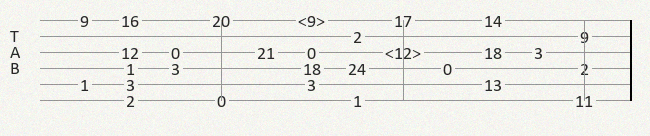0: (171, 45, 184, 60), (217, 93, 230, 108), (307, 45, 320, 60), (443, 61, 456, 76)
1: (80, 77, 93, 92), (126, 61, 139, 76), (353, 93, 366, 108)
11: (575, 93, 597, 108)
12: (121, 45, 143, 60)
13: (484, 77, 506, 92)
14: (484, 13, 506, 28)
16: (121, 13, 143, 28)
17: (394, 13, 416, 28)
18: (303, 61, 325, 76), (484, 45, 506, 60)
2: (126, 93, 139, 108), (353, 29, 366, 44), (580, 61, 593, 76)
20: (212, 13, 234, 28)
21: (257, 45, 279, 60)
24: (348, 61, 370, 76)
3: (126, 77, 139, 92), (171, 61, 184, 76), (307, 77, 320, 92), (534, 45, 547, 60)
9: (80, 13, 93, 28), (580, 29, 593, 44)
harmonic: (385, 45, 425, 60), (298, 13, 329, 28)
